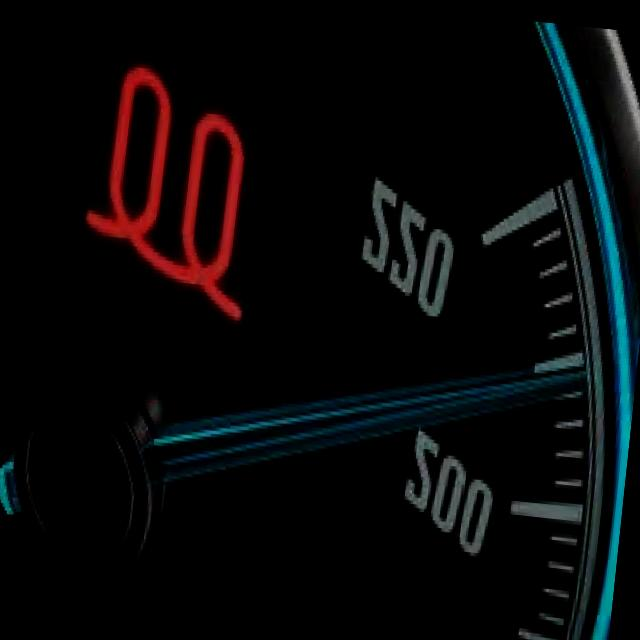kontrolka: (62, 51, 278, 332)
